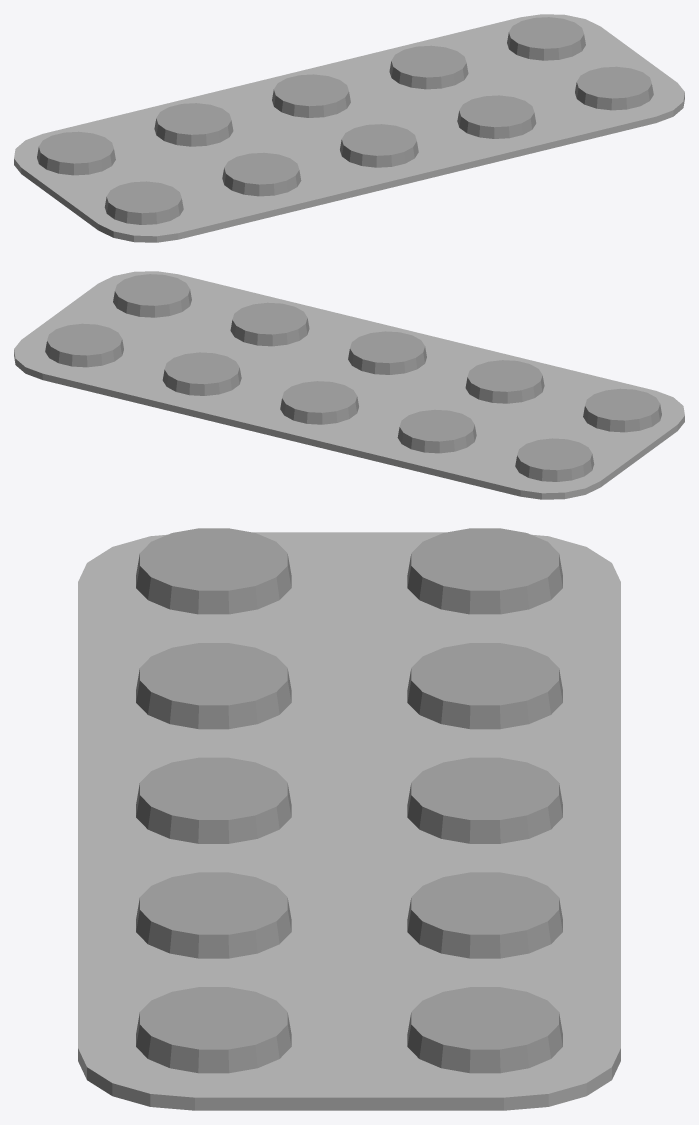
The model's file is Midicine_01.fbx.
3 views of the same model, one above another, from view 1: azimuth 30°, elevation 25°; view 2: azimuth 150°, elevation 25°; view 3: azimuth 270°, elevation 25° (orthographic). The views are drawn at different scales.
Parts seen in each view (by area): view 1: Midicine_01; view 2: Midicine_01; view 3: Midicine_01.
Part boxes in pixels (x1,y1,x2,y2): Midicine_01: (14,14,684,242); Midicine_01: (14,271,684,499); Midicine_01: (78,528,620,1110).
Size of the model in its own units: 21.02 by 0.611 by 8.53.
